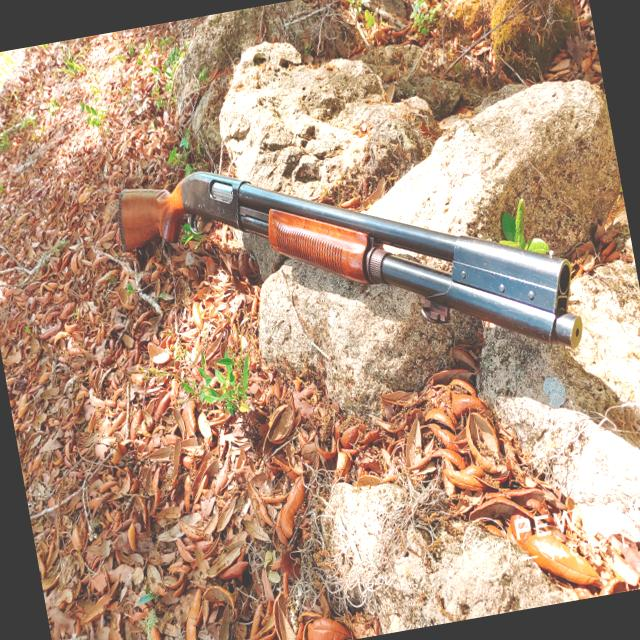shotgun: (89, 78, 627, 446)
